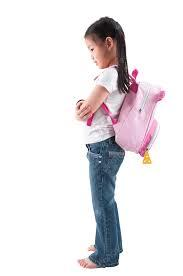Human: (75, 13, 151, 276)
